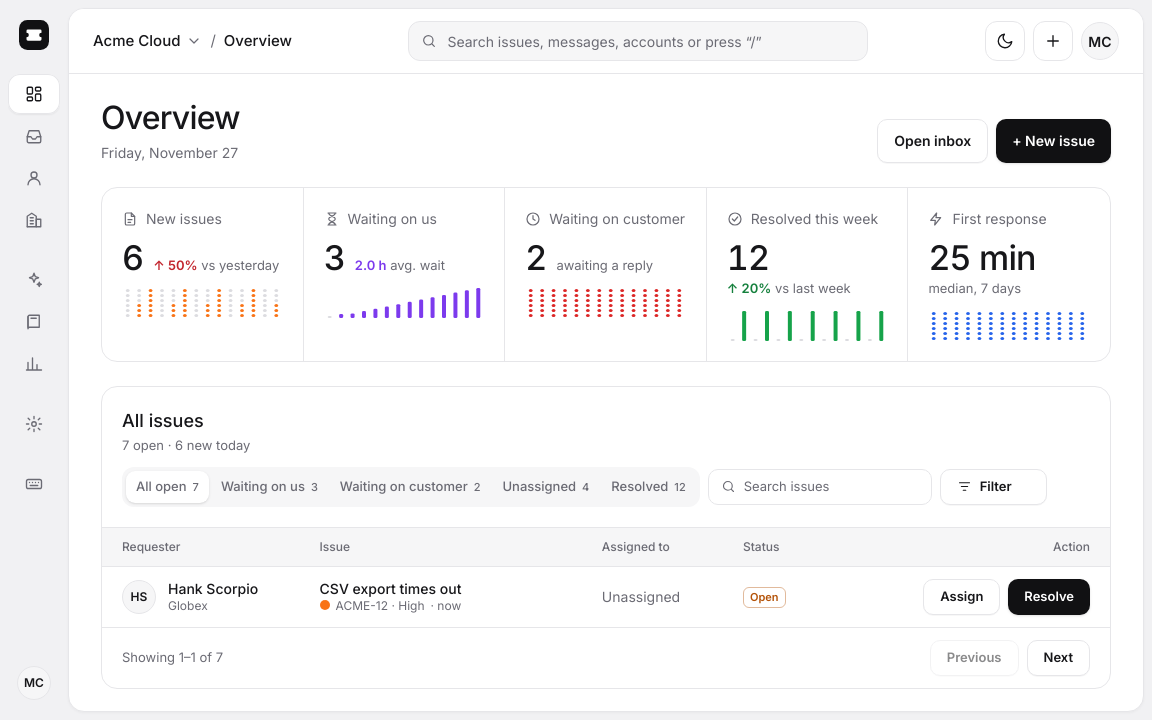
Test: Overview (design v2) › pages with Previous / Next over the keyset cursor
The width and height of the screenshot is (1152, 720).
Expected: the button "Previous" is disabled, x1=930 y1=640 x2=1019 y2=676
Click the button "Next": click(1058, 658) x1=1026 y1=640 x2=1090 y2=676
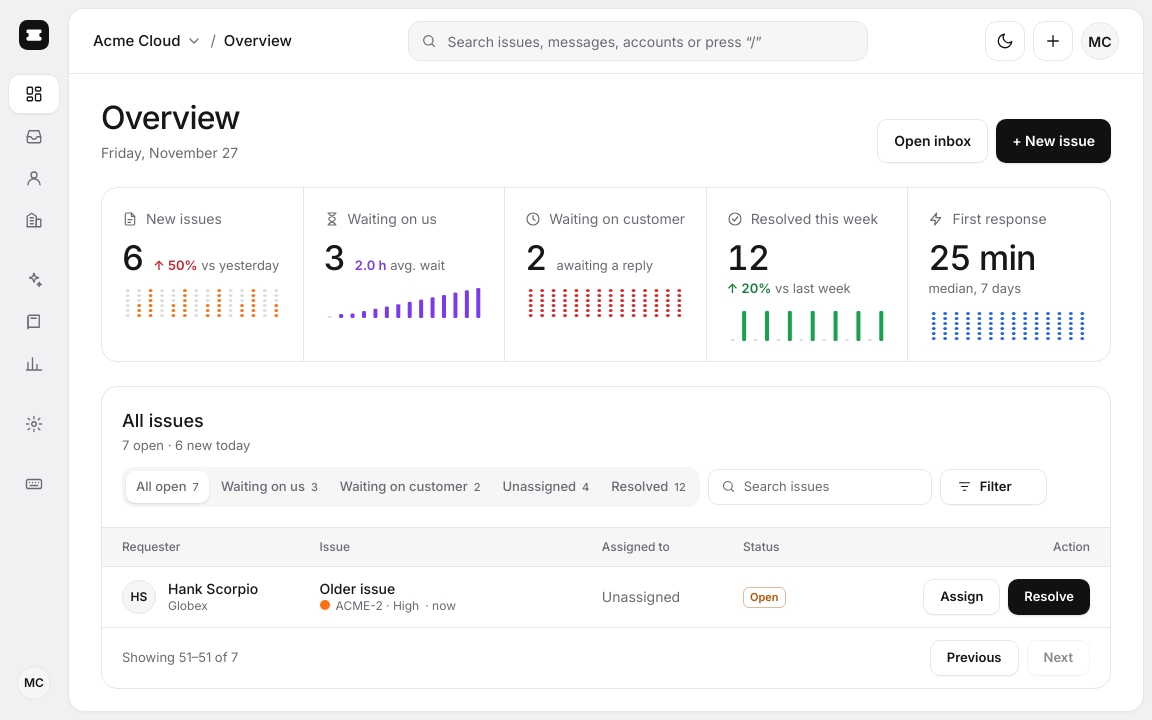
Expected: the text "Older issue" is shown, x1=320 y1=580 x2=395 y2=597
Expected: the button "Next" is disabled, x1=1026 y1=640 x2=1090 y2=676
Click the button "Previous": click(974, 658) x1=930 y1=640 x2=1019 y2=676
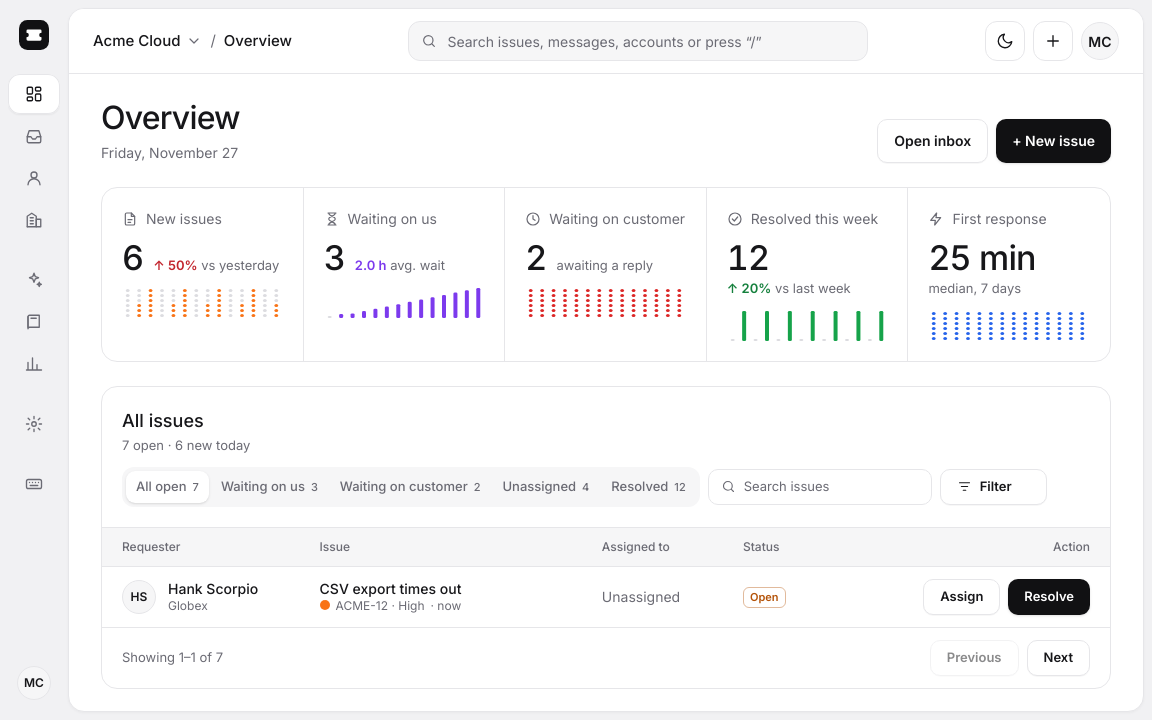
Expected: the text "CSV export times out" is shown, x1=320 y1=580 x2=461 y2=597
